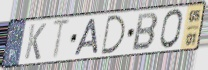A: (72, 18, 99, 58)
B: (131, 12, 160, 52)
D: (100, 14, 127, 56)
K: (23, 23, 48, 61)
O: (158, 8, 184, 51)
T: (51, 18, 72, 62)
